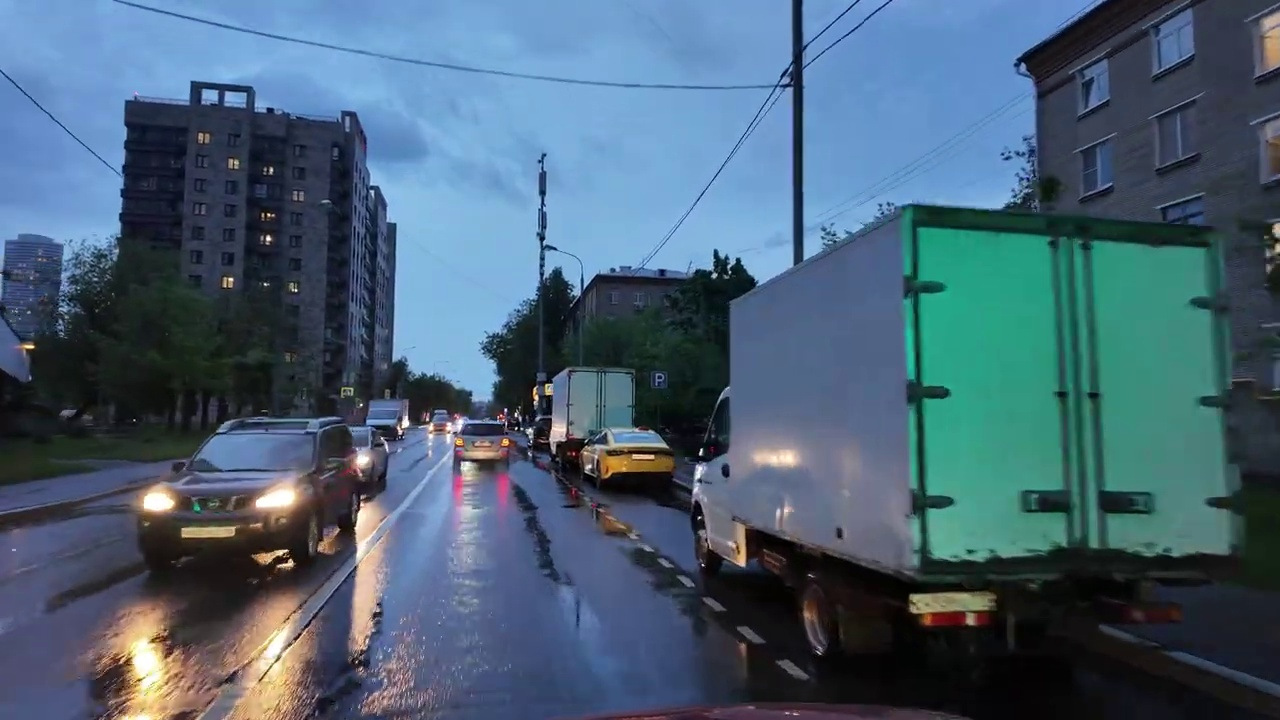acesa: (767, 447, 798, 470)
